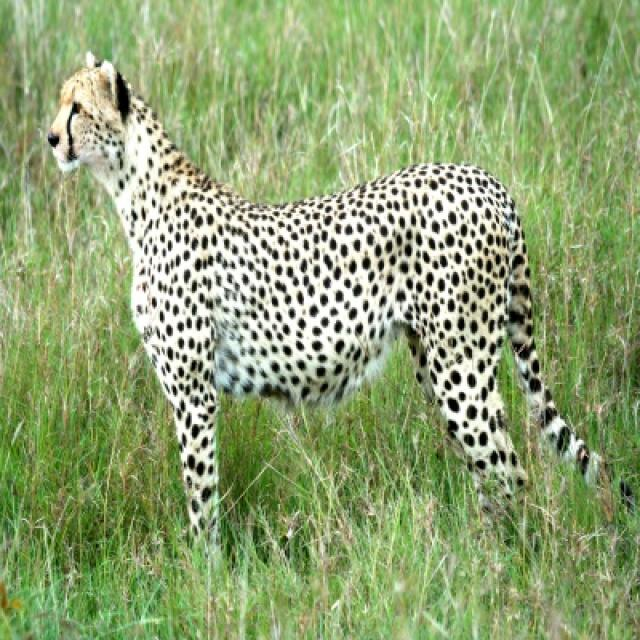Cheetah: (45, 54, 608, 536)
